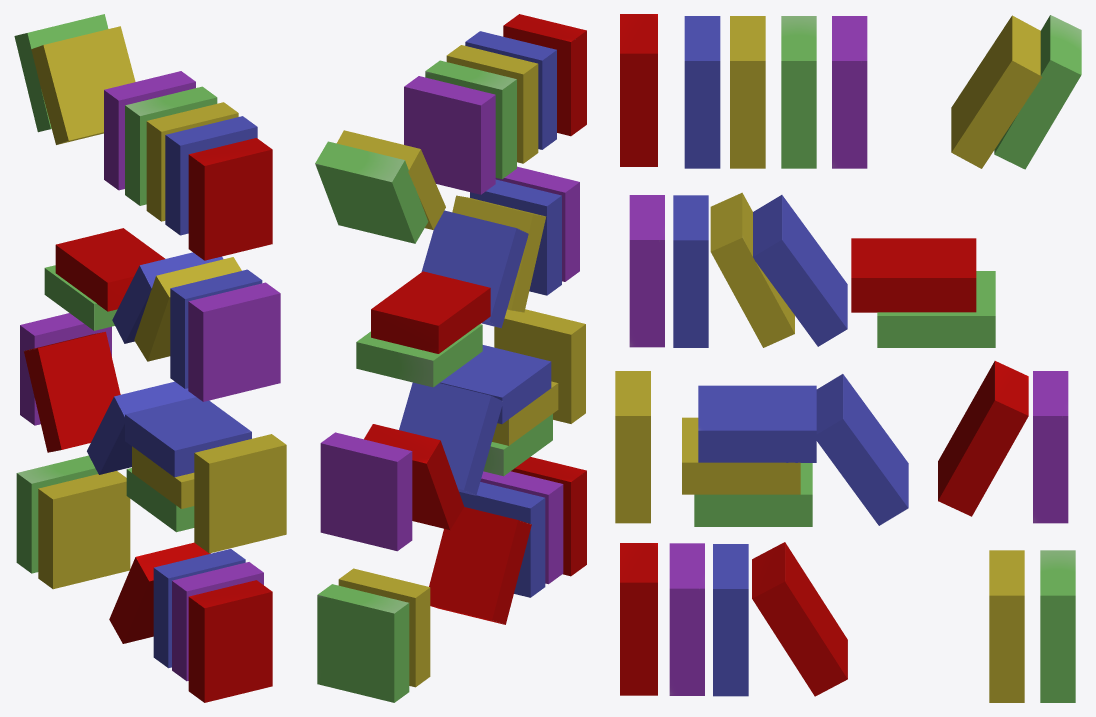
File: Books.fbx
The picture shows the model from 3 angles, left to right: view 1: azimuth 30°, elevation 25°; view 2: azimuth 150°, elevation 25°; view 3: azimuth 270°, elevation 25°; orthographic projection. The views are drawn at different scales.
Visible parts, largest first — view 1: Cube.020; view 2: Cube.020; view 3: Cube.020.
Part boxes in pixels (x1,y1,x2,y2): Cube.020: (14, 14, 286, 702); Cube.020: (315, 14, 586, 702); Cube.020: (615, 14, 1081, 702).
Size of the model in its own units: 35.53 by 203 by 133.
Materials: 5 (5 with a texture image).
